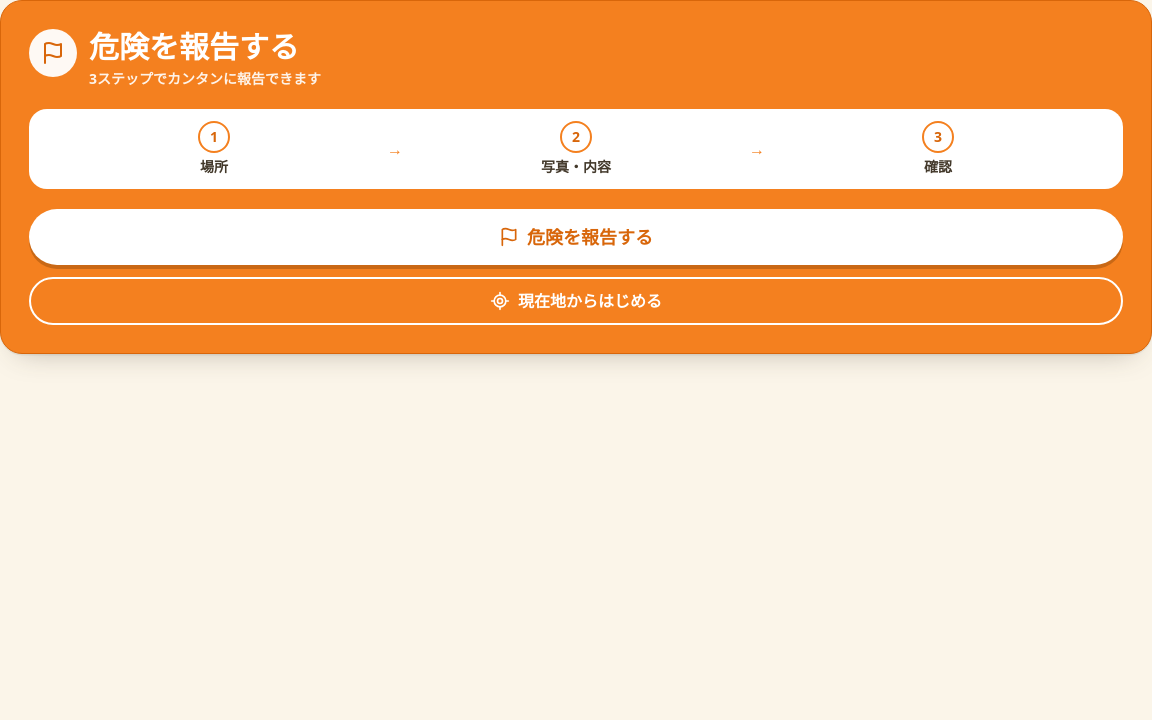
Test: ReportComposer › offers map recovery when current-location permission is denied
Click the button "現在地からはじめる".
click(576, 301)  # box [29,277,1123,325]
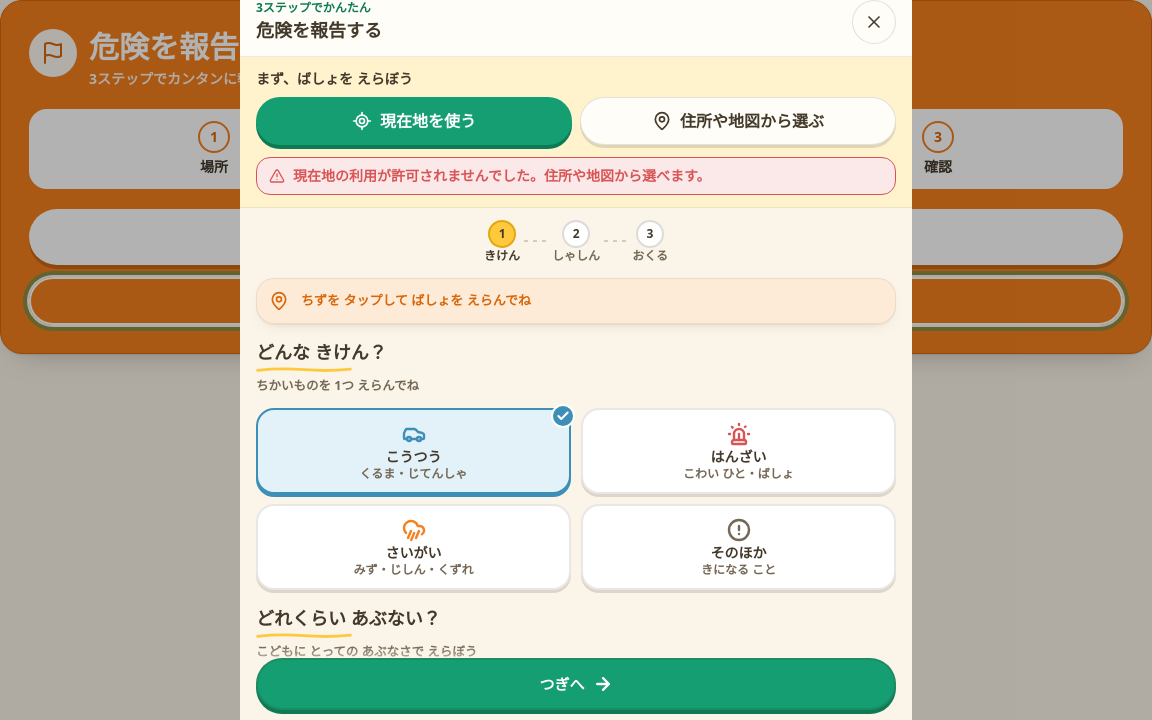
expect the message shows "住所や地図から選べます": met, box [293,166,710,185]
